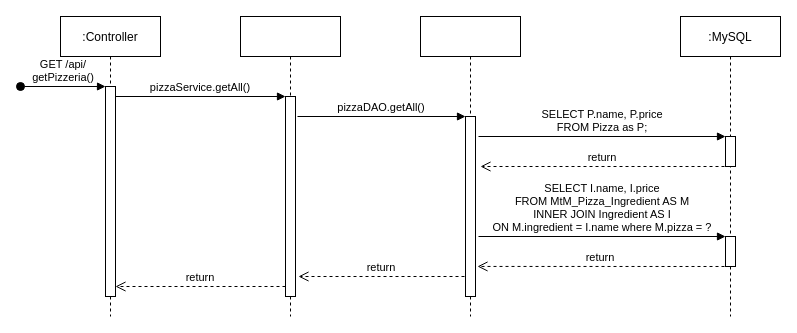
The diagram is 797 pixels wide and 333 high, and some of its shapes have lost their labels. The shapes that lost their labels are listed below. From the top down, each one's box as (x1, y1, x2, y2) in pixels, then its label:
(240, 16, 340, 316): :Service
(420, 16, 520, 316): :DAO
